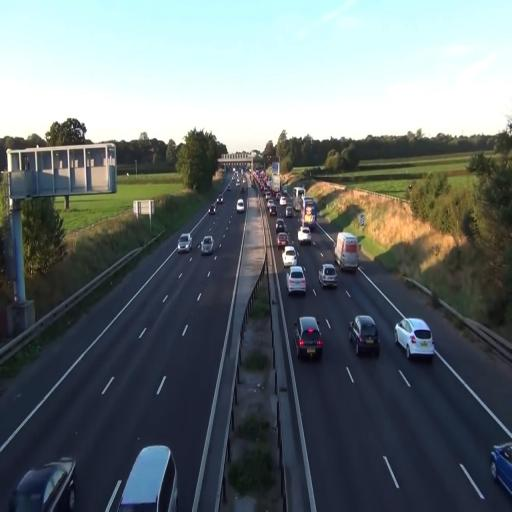vehicle: (118, 444, 178, 511), (395, 316, 435, 362), (349, 314, 380, 358), (490, 440, 512, 497), (296, 315, 323, 360), (334, 232, 359, 272), (288, 264, 306, 296), (319, 264, 338, 288), (282, 244, 298, 270), (296, 226, 312, 244), (276, 228, 289, 250), (200, 235, 214, 255), (178, 234, 192, 250), (236, 199, 245, 213)
